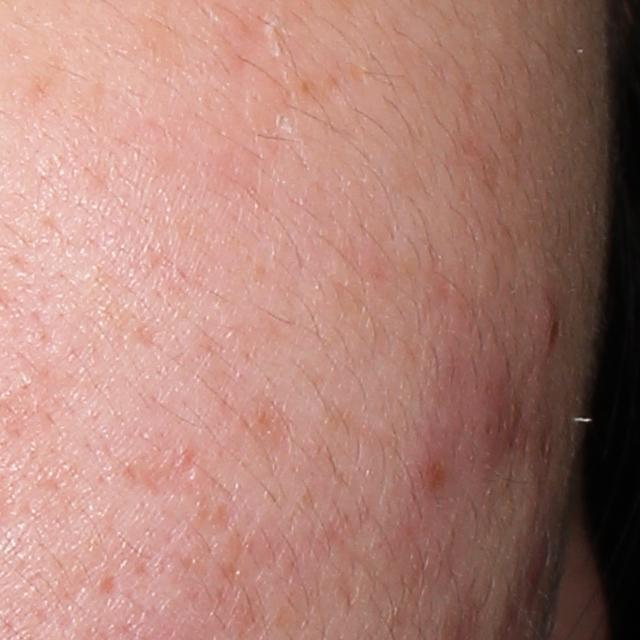atrophic_scar: (118, 440, 212, 507), (93, 569, 120, 598)
